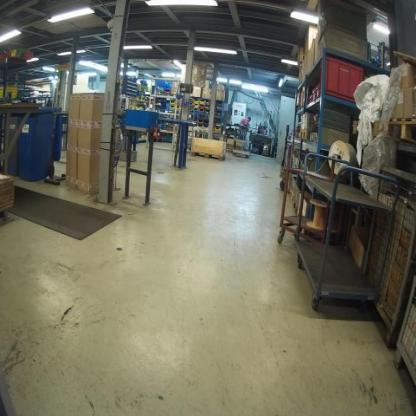pallet: (387, 115, 416, 146), (190, 150, 226, 162), (288, 187, 295, 202), (300, 130, 309, 140)
pallet_truck: (279, 120, 292, 185)
small_load_carrier: (314, 54, 370, 106)
stillage: (359, 159, 415, 350), (391, 266, 416, 403)
